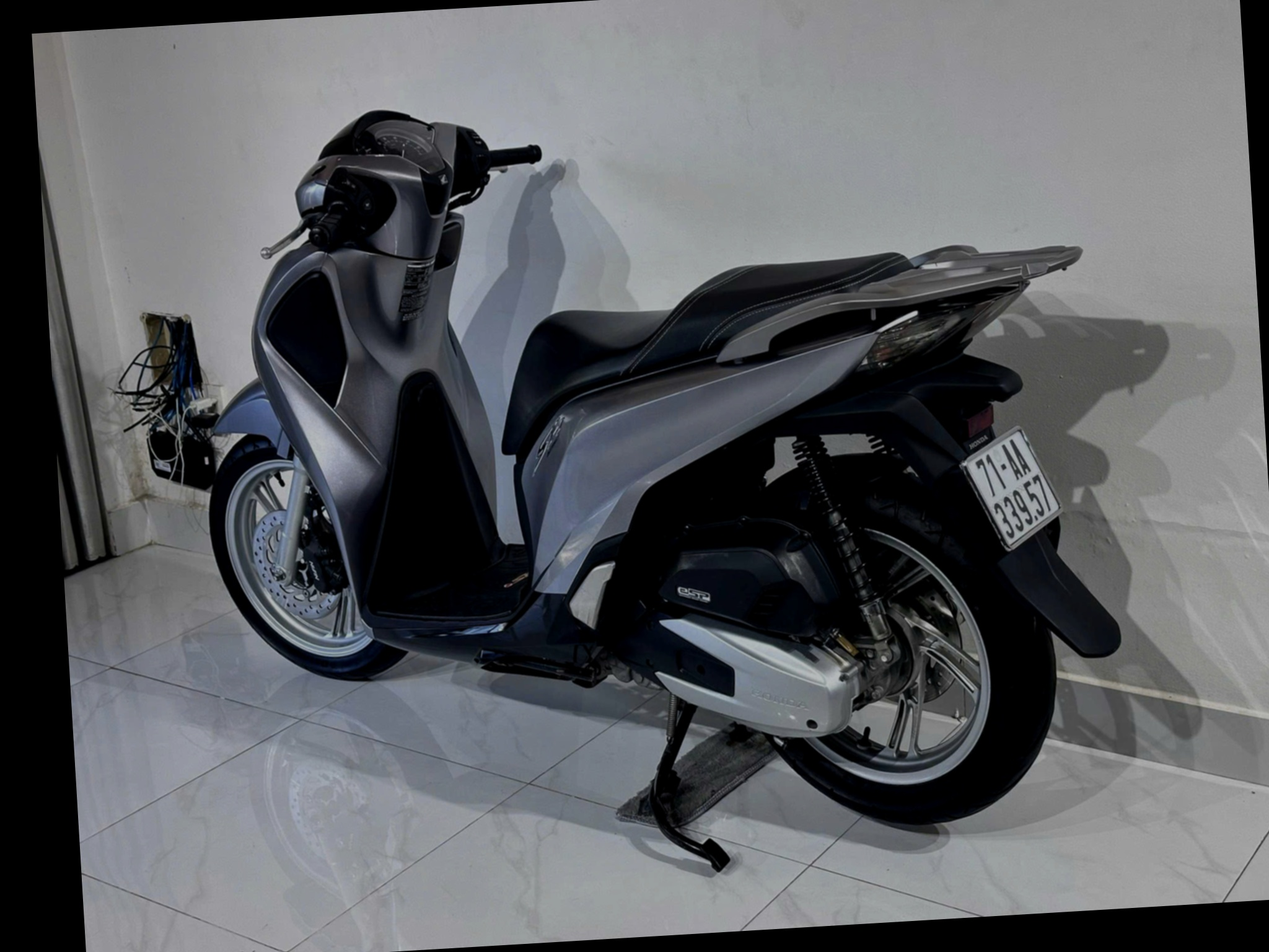Bien-so: (983, 449, 1094, 580)
